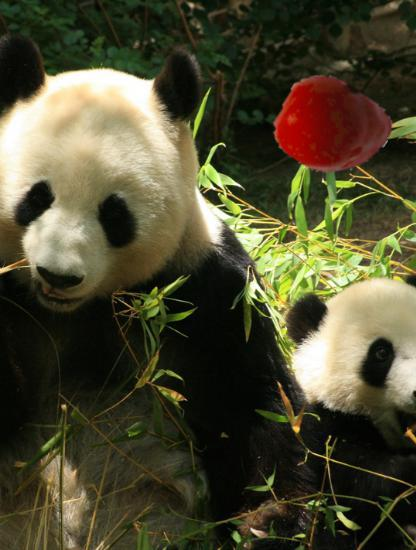Tomato: (276, 73, 386, 183)
